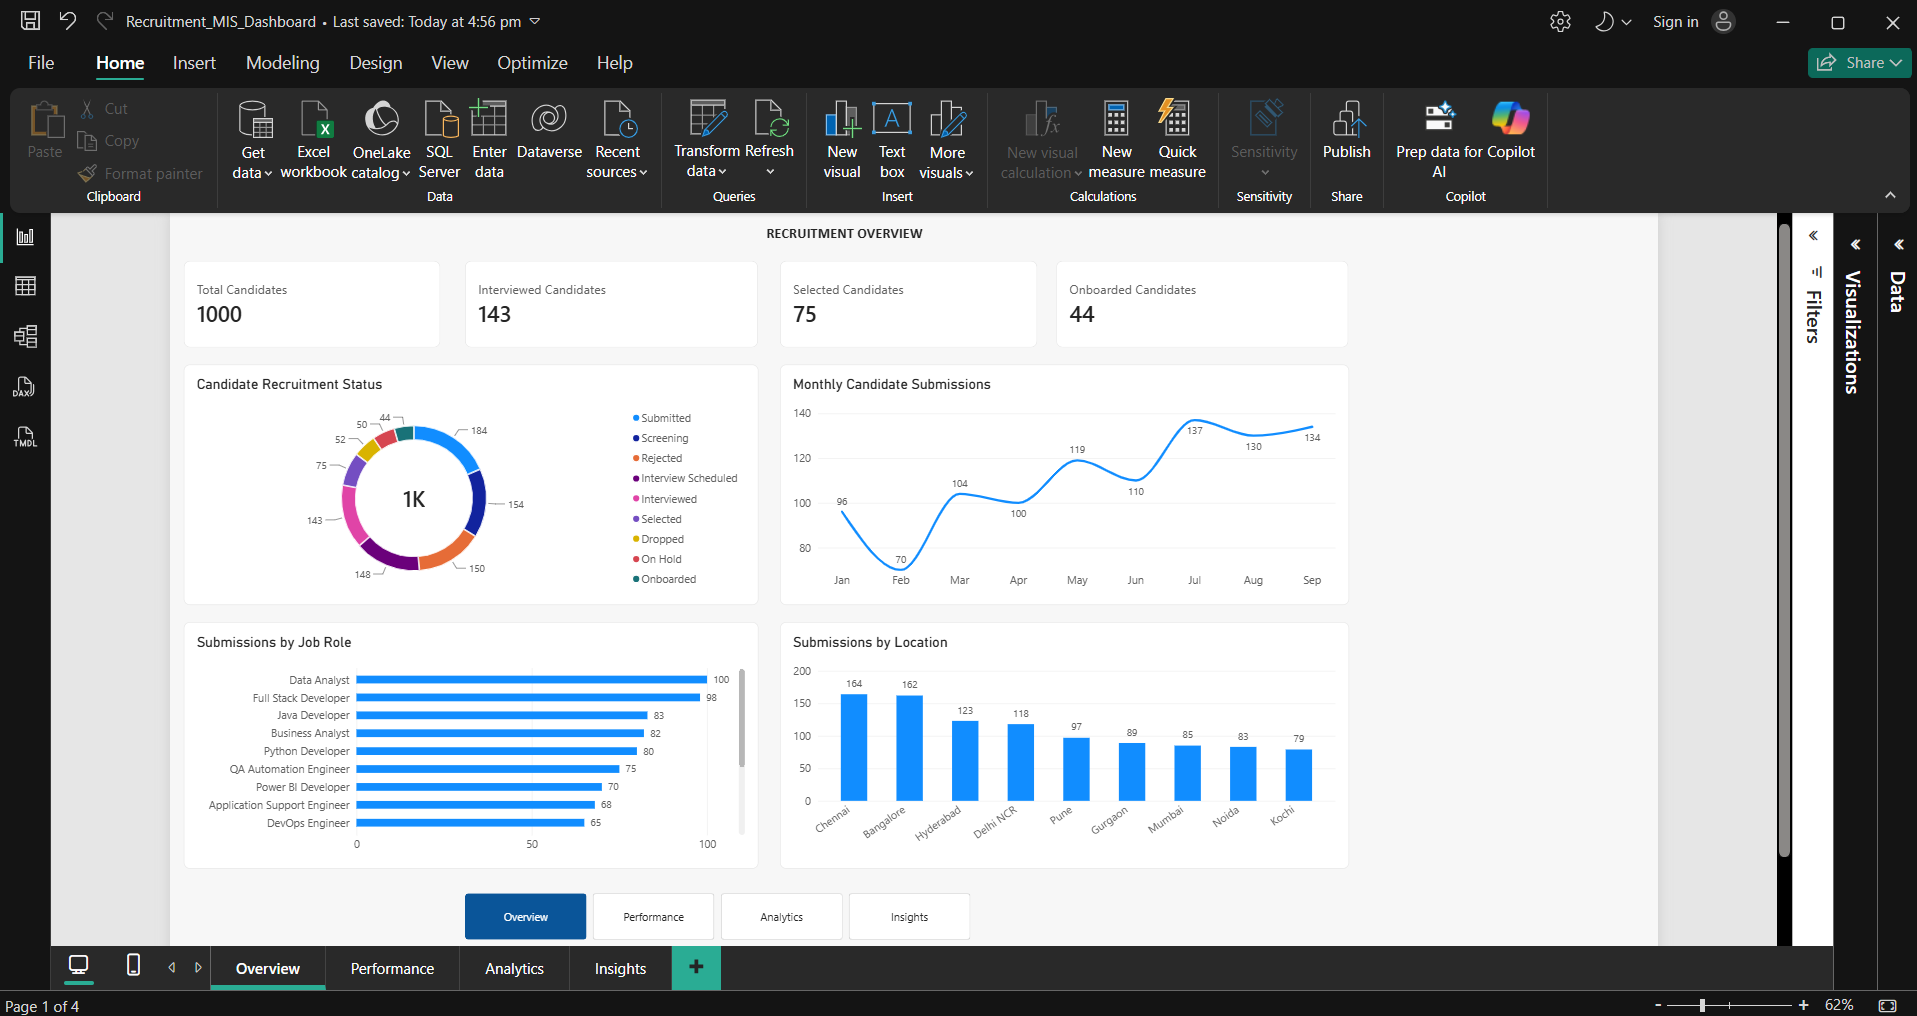

What the dashboard file says about the page in this screenshot:
{"tool":"powerbi","page":{"name":"Overview","canvas":[1920,1080],"ordinal":0},"visuals":[{"type":"cardVisual","fields":{"Data":["Candidate Submissions.Total Candidates"]},"box":[17.3,61.2,193,92],"z":0},{"type":"cardVisual","fields":{"Data":["Candidate Submissions.Interviewed Candidates"]},"box":[220.4,61.2,213.3,91.8],"z":1000},{"type":"cardVisual","fields":{"Data":["Candidate Submissions.Selected Candidates"]},"box":[446.9,61.2,208.2,91.8],"z":2000},{"type":"cardVisual","fields":{"Data":["Candidate Submissions.Onboarded Candidates"]},"box":[664.3,61.2,235,92],"z":3000},{"type":"donutChart","title":"Candidate Recruitment Status","fields":{"Category":["Candidate Submissions.Status"],"Y":["CountNonNull(Candidate Submissions.Candidate ID)"]},"box":[17.3,164.3,416,277],"z":4000},{"type":"lineChart","title":"Monthly Candidate Submissions","fields":{"Category":["Candidate Submissions.Month"],"Y":["CountNonNull(Candidate Submissions.Candidate ID)"]},"box":[446.9,165.3,452,275.5],"z":5000},{"type":"clusteredBarChart","title":"Submissions by Job Role","fields":{"Category":["Candidate Submissions.Job Role"],"Y":["CountNonNull(Candidate Submissions.Candidate ID)"]},"box":[17.5,452.5,416.2,306.2],"z":6000},{"type":"clusteredColumnChart","title":"Submissions by Location","fields":{"Category":["Candidate Submissions.Location"],"Y":["CountNonNull(Candidate Submissions.Candidate ID)"]},"box":[447.5,452.5,451.2,306.2],"z":7000},{"type":"textbox","box":[17.3,15.3,881.6,30.6],"z":8000},{"type":"pageNavigator","box":[181.2,792.5,600,50],"z":8001}]}

Visuals, with their boxes on the page's 1920x1080 design canvas (x1, y1, x2, y2). These are canvas units, not pixel positions in the 1917x1016 screenshot, which may show the page scaled, cropped or inside an application window:
cardVisual - Candidate Submissions.Total Candidates: x1=17 y1=61 x2=210 y2=153
cardVisual - Candidate Submissions.Interviewed Candidates: x1=220 y1=61 x2=434 y2=153
cardVisual - Candidate Submissions.Selected Candidates: x1=447 y1=61 x2=655 y2=153
cardVisual - Candidate Submissions.Onboarded Candidates: x1=664 y1=61 x2=899 y2=153
"Candidate Recruitment Status" donutChart: x1=17 y1=164 x2=433 y2=441
"Monthly Candidate Submissions" lineChart: x1=447 y1=165 x2=899 y2=441
"Submissions by Job Role" clusteredBarChart: x1=18 y1=452 x2=434 y2=759
"Submissions by Location" clusteredColumnChart: x1=448 y1=452 x2=899 y2=759
textbox: x1=17 y1=15 x2=899 y2=46
pageNavigator: x1=181 y1=792 x2=781 y2=842
